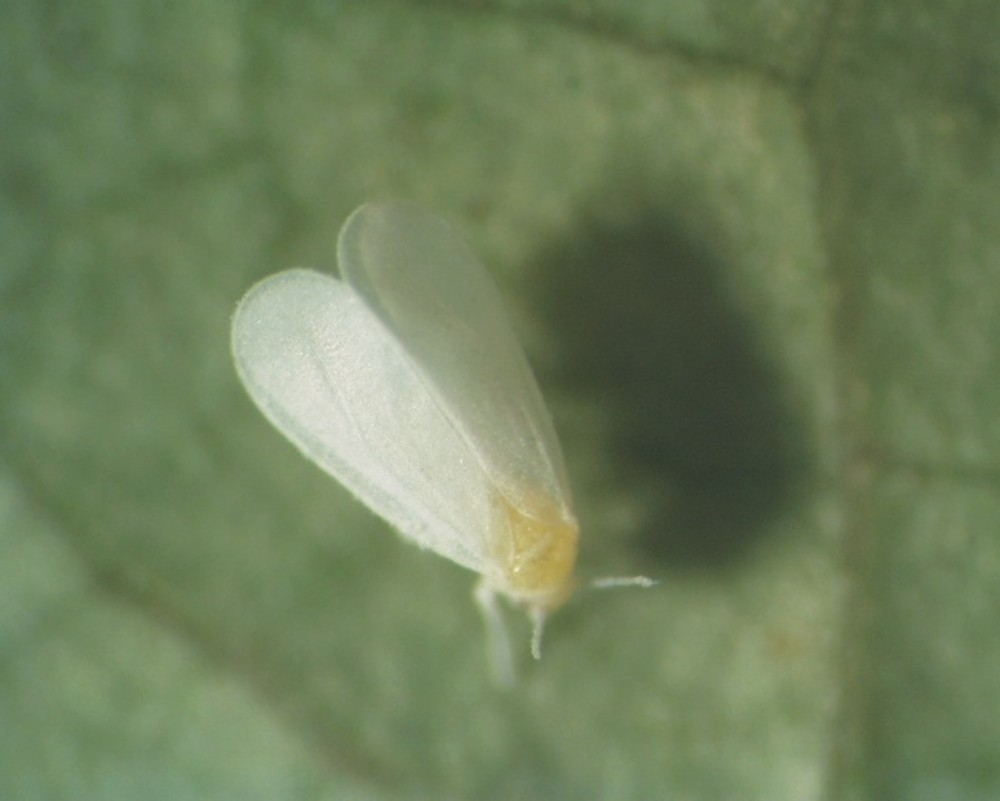Mosca Blanca: (185, 194, 732, 689)
